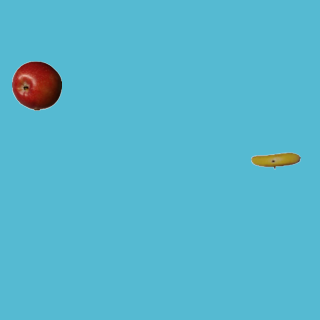Apple Braeburn: (11, 60, 61, 110)
Banana: (250, 135, 300, 185)
